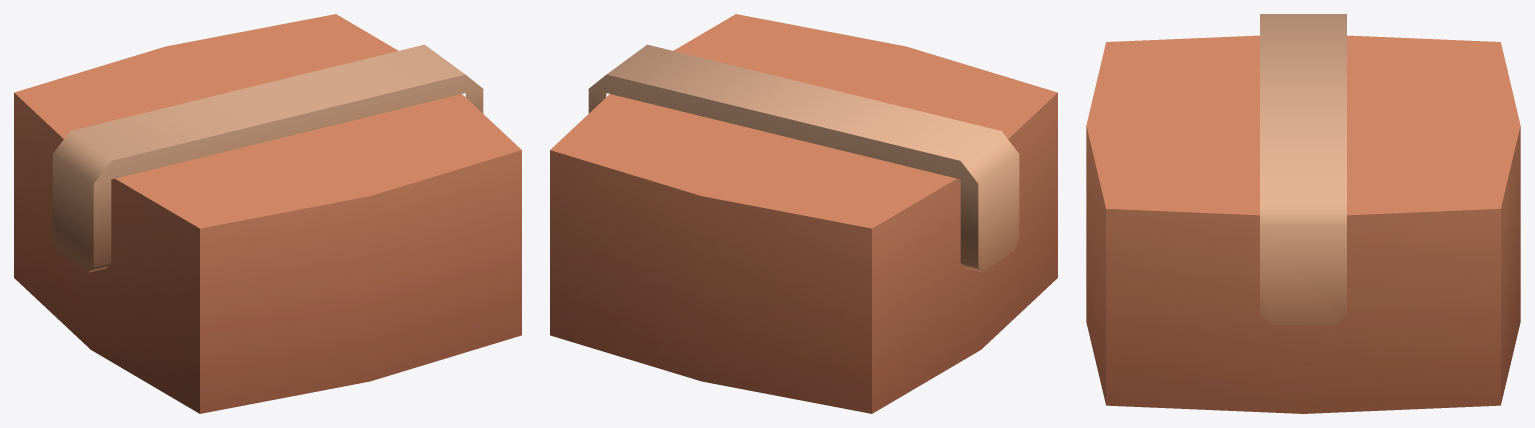
Rendered from kenney-conveyor-box-large.glb.
3 views of the same model, side by side, from view 1: azimuth 30°, elevation 25°; view 2: azimuth 150°, elevation 25°; view 3: azimuth 270°, elevation 25° (orthographic). The views are drawn at different scales.
Parts seen in each view (by area): view 1: box-large; view 2: box-large; view 3: box-large.
Boxes of the visible parts, x1,y1,x2,y2 form: box-large: (14,14,521,413); box-large: (550,14,1057,413); box-large: (1086,14,1520,413).
Size of the model in its own units: 1.1 by 0.5501 by 1.
Materials: 1 (1 with a texture image).
